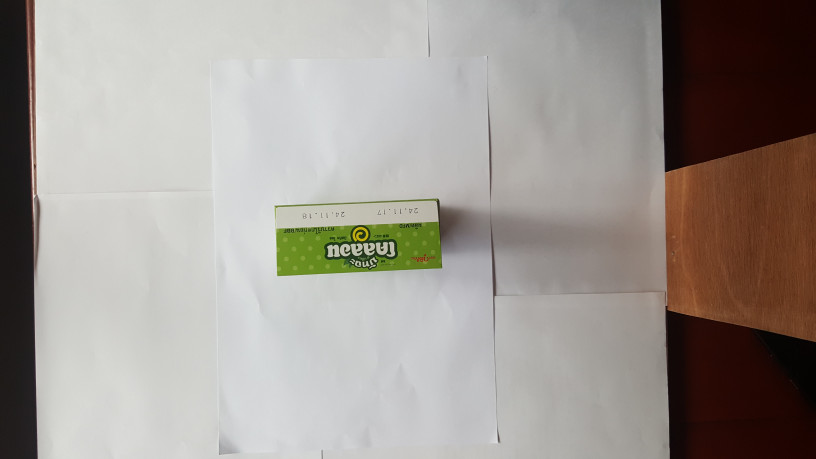collon-matcha: (274, 198, 445, 275)
